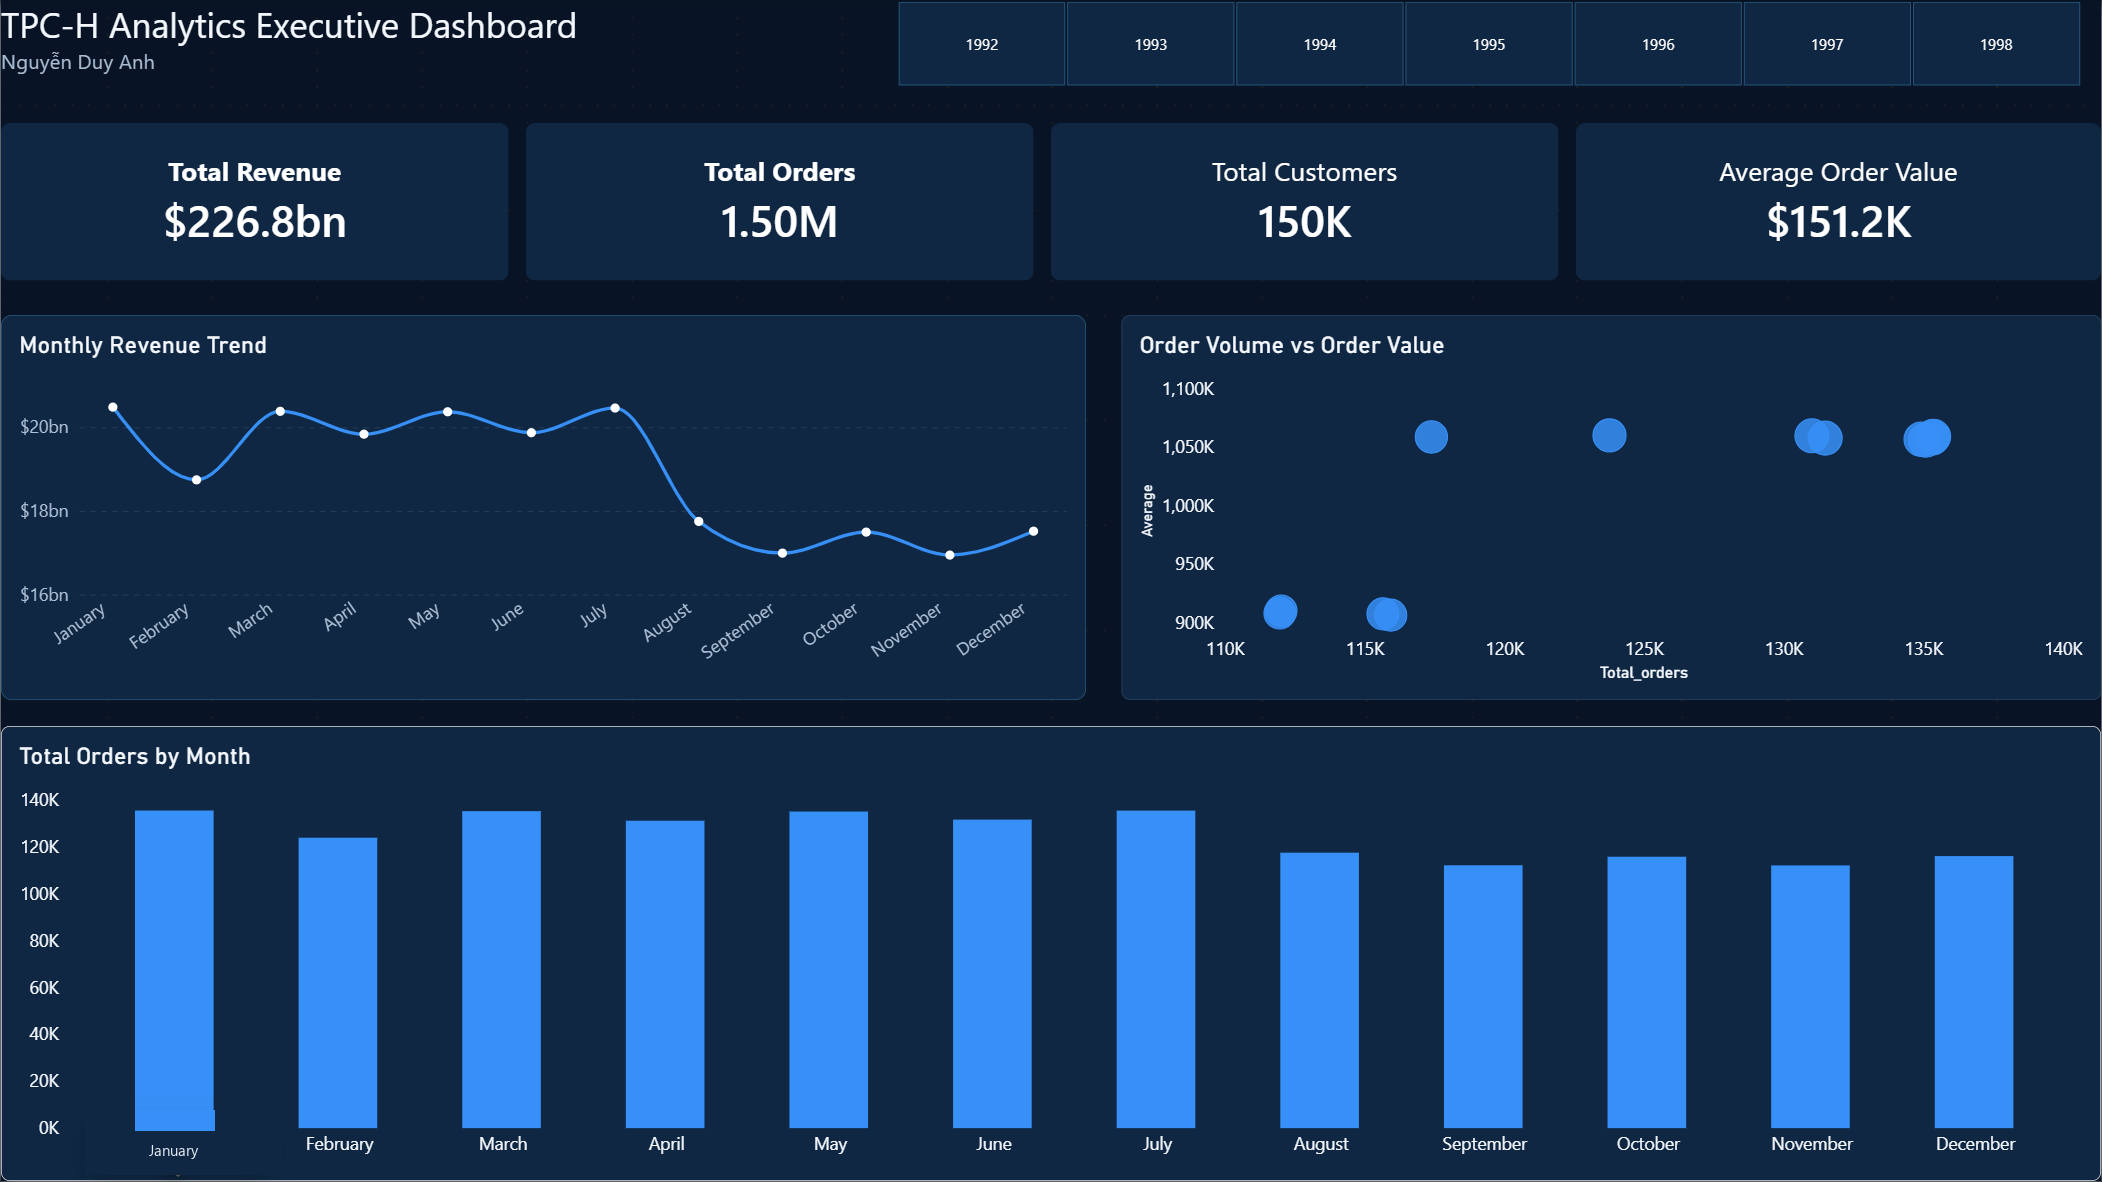

This screenshot's page, from the dashboard's own definition file:
{"tool":"powerbi","page":{"name":"Executive Overview","canvas":[1920,1080],"ordinal":0},"visuals":[{"type":"textbox","box":[0,0,1920,80],"z":0},{"type":"slicer","fields":{"Values":["SALES_TREND_MONTHLY.ORDER_MONTH.Variation.Date Hierarchy.Year"]},"box":[800,0,1120,80],"z":1000},{"type":"cardVisual","fields":{"Data":["00_MEASURES.Total Revenue"]},"box":[0,112,464,144],"z":2000},{"type":"cardVisual","fields":{"Data":["00_MEASURES.Total Orders"]},"box":[480,112,464,144],"z":3000},{"type":"cardVisual","fields":{"Data":["00_MEASURES.Total Customers"]},"box":[960,112,464,144],"z":4000},{"type":"cardVisual","fields":{"Data":["00_MEASURES.Average Order Value"]},"box":[1440,112,480,144],"z":5000},{"type":"lineChart","title":"Monthly Revenue Trend","fields":{"Category":["SALES_TREND_MONTHLY.ORDER_MONTH.Variation.Date Hierarchy.Month","SALES_TREND_MONTHLY.ORDER_MONTH.Variation.Date Hierarchy.Day"],"Y":["00_MEASURES.Total Revenue"]},"box":[0,288,992,352],"z":6000},{"type":"scatterChart","title":"Order Volume vs Order Value","fields":{"Category":["SALES_TREND_MONTHLY.ORDER_MONTH.Variation.Date Hierarchy.Month"],"Size":["Sum(SALES_TREND_MONTHLY.TOTAL_REVENUE)"],"X":["Sum(SALES_TREND_MONTHLY.ORDER_COUNT)"],"Y":["Sum(SALES_TREND_MONTHLY.AVG_ORDER_VALUE)"]},"box":[1024,288,896,352],"z":7000},{"type":"clusteredColumnChart","fields":{"Category":["SALES_TREND_MONTHLY.ORDER_MONTH.Variation.Date Hierarchy.Month"],"Y":["00_MEASURES.Total Orders"]},"box":[0,664,1920,416],"z":8000}]}

Visuals, with their boxes in screenshot pixels (x1, y1, x2, y2), scaled from the page's 1920x1080 canvas onto the 2102x1182 screenshot:
textbox: bbox=(0, 0, 2101, 88)
slicer - SALES_TREND_MONTHLY.ORDER_MONTH.Variation.Date Hierarchy.Year: bbox=(876, 0, 2101, 88)
cardVisual - 00_MEASURES.Total Revenue: bbox=(0, 123, 508, 280)
cardVisual - 00_MEASURES.Total Orders: bbox=(526, 123, 1033, 280)
cardVisual - 00_MEASURES.Total Customers: bbox=(1051, 123, 1559, 280)
cardVisual - 00_MEASURES.Average Order Value: bbox=(1576, 123, 2101, 280)
"Monthly Revenue Trend" lineChart: bbox=(0, 315, 1086, 700)
"Order Volume vs Order Value" scatterChart: bbox=(1121, 315, 2101, 700)
clusteredColumnChart - SALES_TREND_MONTHLY.ORDER_MONTH.Variation.Date Hierarchy.Month x 00_MEASURES.Total Orders: bbox=(0, 727, 2101, 1181)
